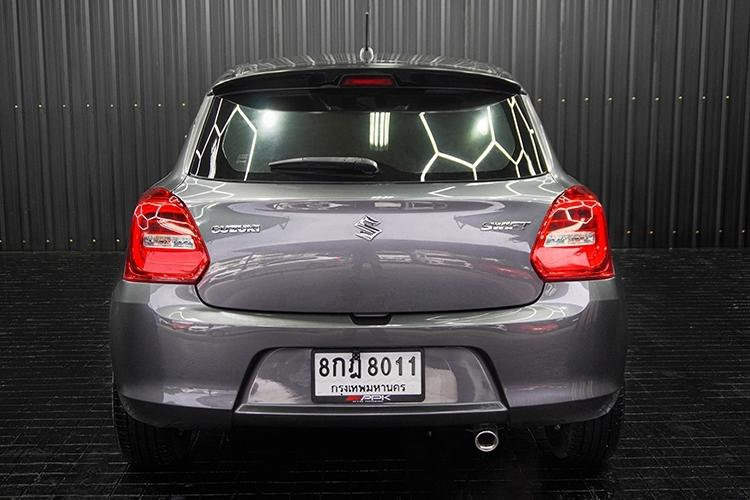license-plate: (310, 349, 427, 404)
